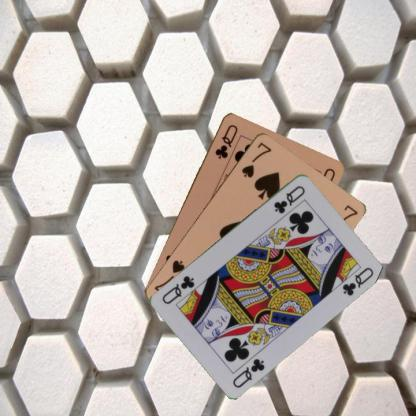7s: (238, 139, 272, 179)
Qc: (230, 356, 266, 390), (271, 183, 306, 214), (212, 121, 239, 160)
